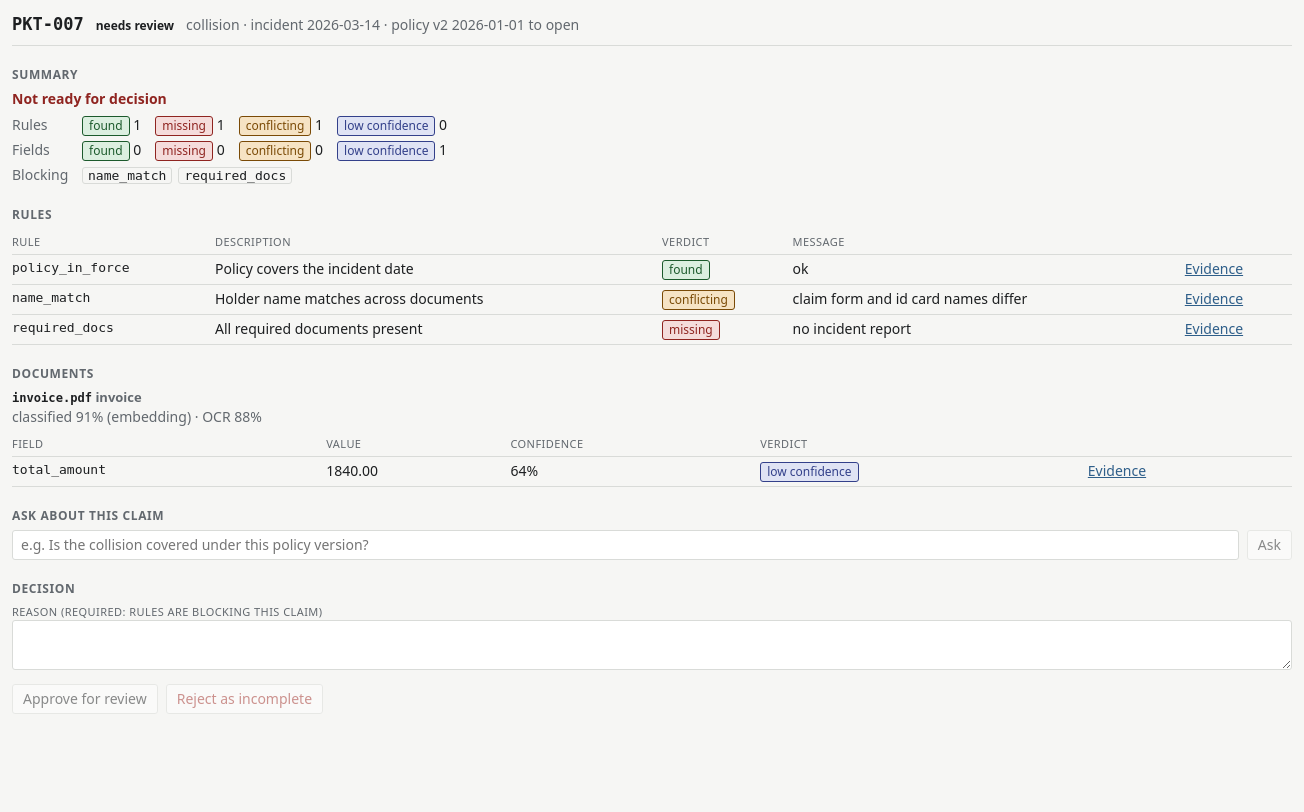
Scenario: ReviewPanel › keeps reject disabled until a reason is typed
Expected: the button "Reject as incomplete" is disabled, [166, 684, 323, 714]
Type "no incident report" into the text box labelled "Reason (required: rules are blocking this claim)" at (652, 645), box [12, 620, 1292, 670]
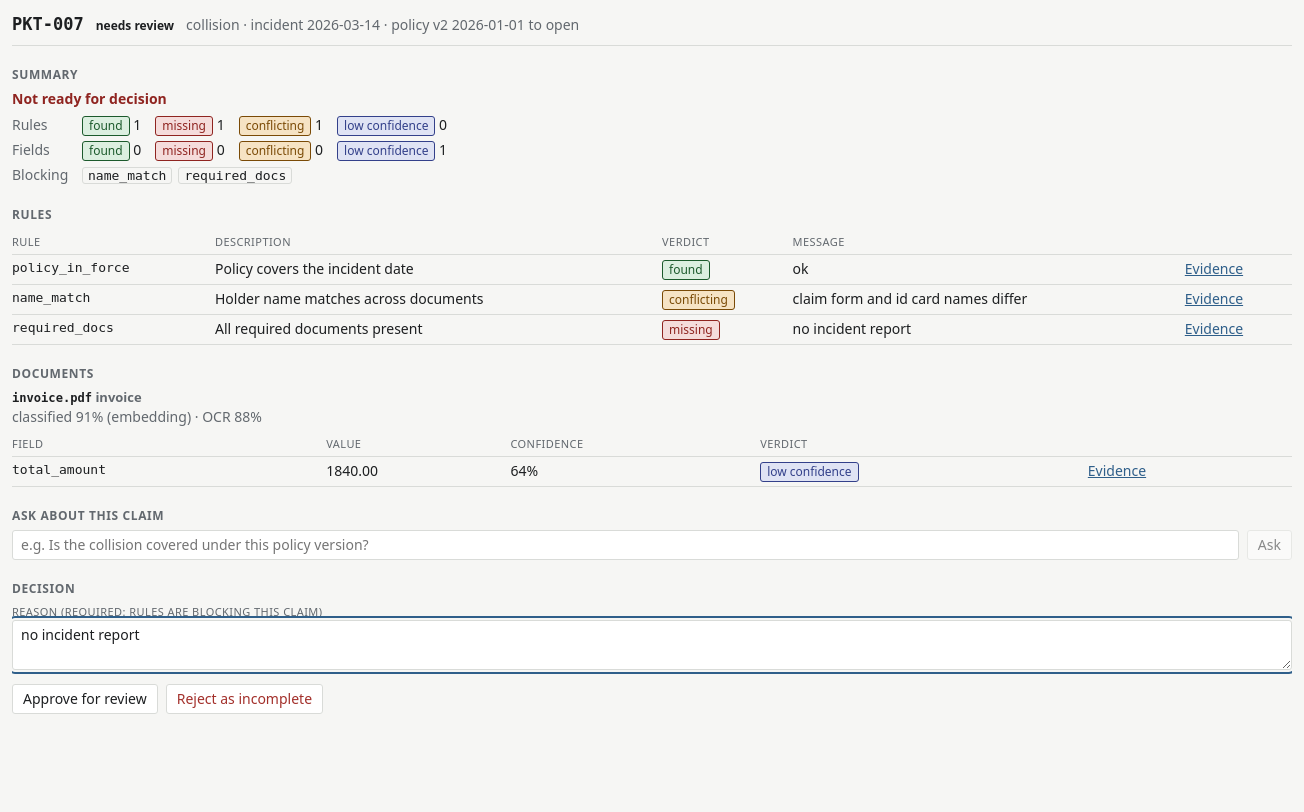
Now the button "Reject as incomplete" is enabled, box [166, 684, 323, 714]
